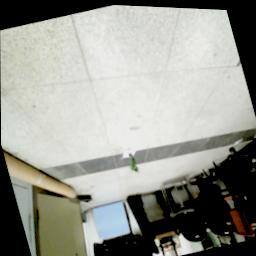herb: (126, 152, 141, 176)
